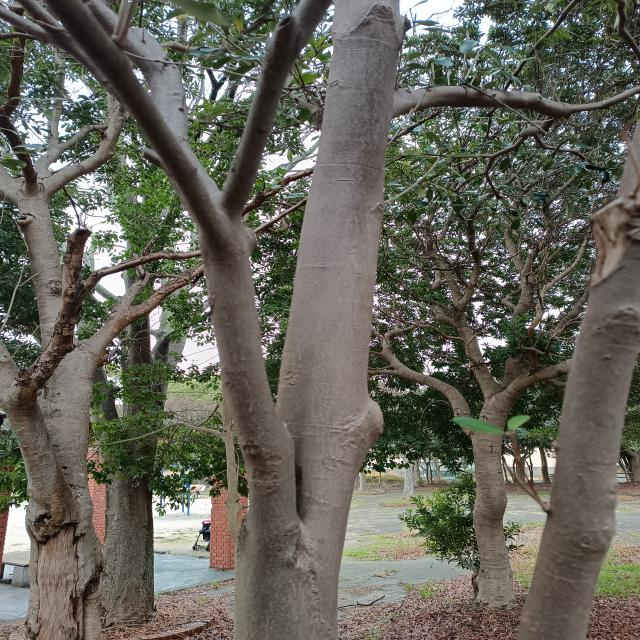Branch: (276, 0, 406, 546), (199, 214, 295, 549)
Twig: (220, 0, 330, 212), (393, 86, 639, 122), (484, 117, 556, 200), (1, 37, 39, 191)
